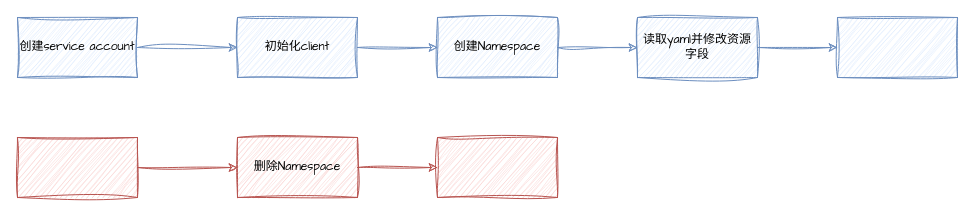
The diagram is 975 pixels wide and 215 high, and some of its shapes have lost their labels. The centre of each missing label's shape, as x and y in pixels:
"创建资源" goes at point 897,47.
"删除PV" goes at point 497,167.
"定时任务 扫描过期资源" goes at point 77,167.
